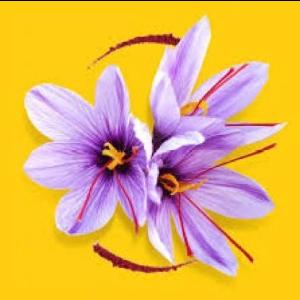Saffron: (22, 63, 152, 235), (148, 132, 275, 276), (148, 19, 282, 142)
